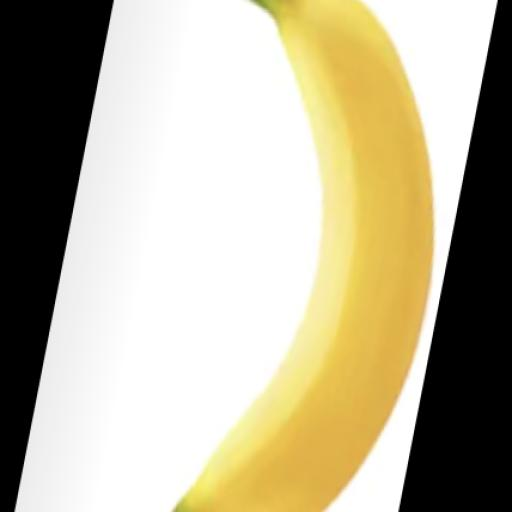banana-ripe: (80, 0, 446, 512)
